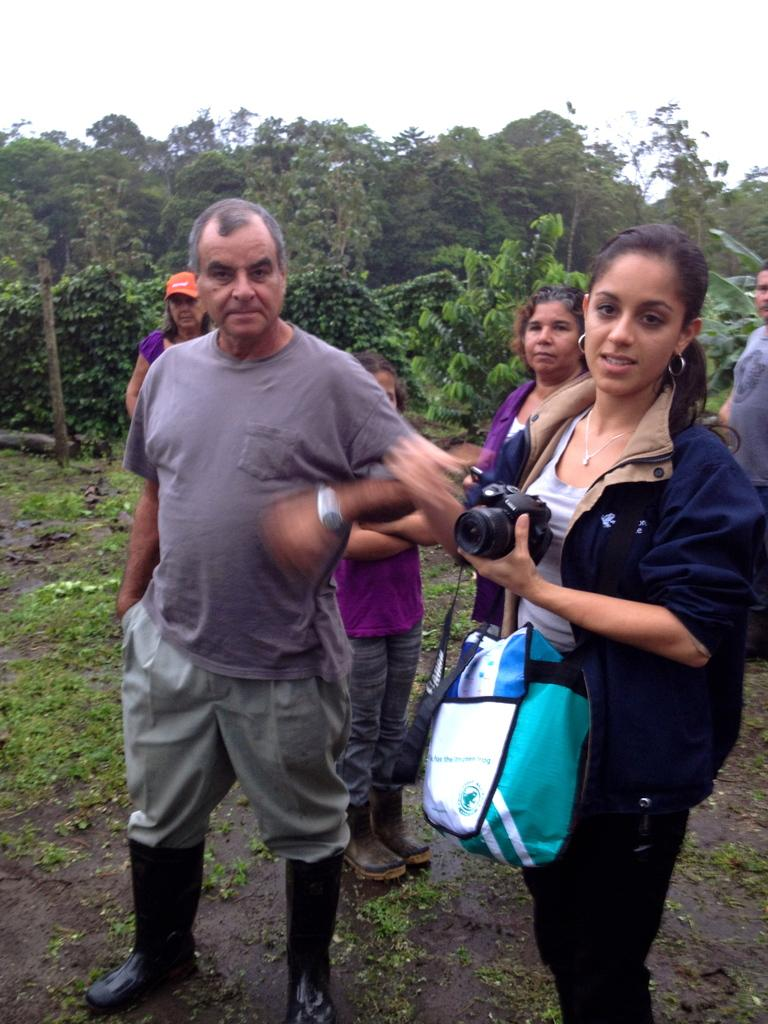Luggage-and-bags: (384, 628, 591, 863)
